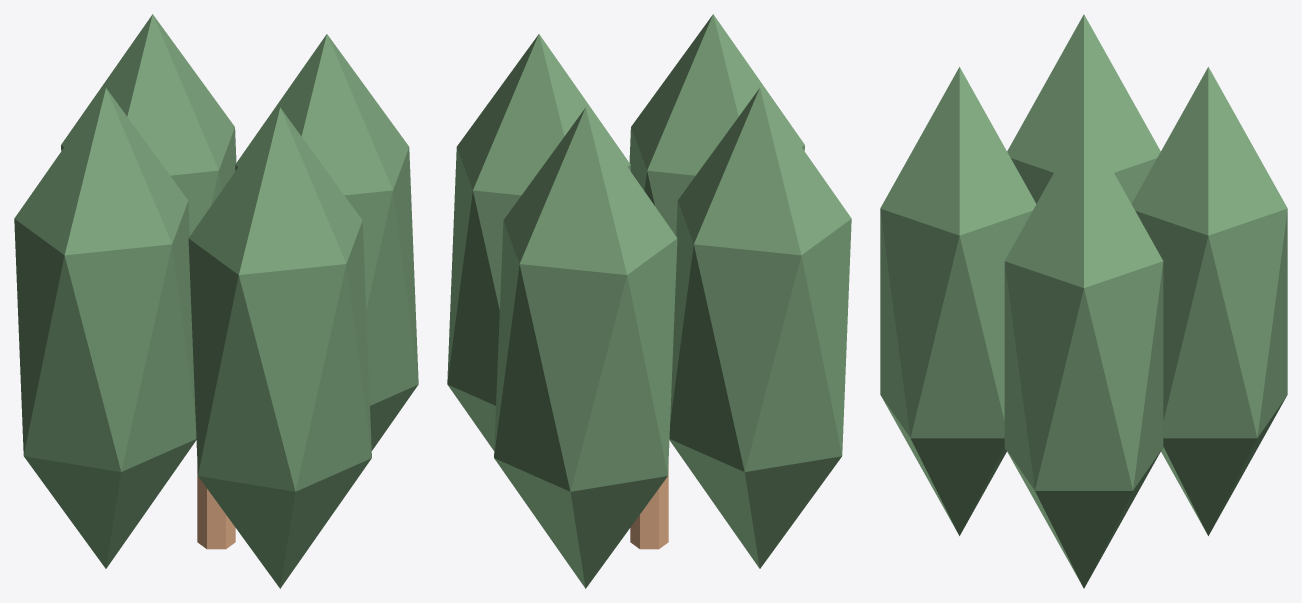
The picture shows the model from 3 angles, left to right: view 1: azimuth 30°, elevation 25°; view 2: azimuth 150°, elevation 25°; view 3: azimuth 270°, elevation 25°; orthographic projection. The views are drawn at different scales.
Parts seen in each view (by area): view 1: Leaf.003, Leaf.002, Leaf, Leaf.001, Stem; view 2: Leaf.001, Leaf.002, Leaf, Leaf.003, Stem; view 3: Leaf, Leaf.001, Leaf.003, Leaf.002.
Part boxes in pixels (x1,y1,x2,y2): Leaf.003: (188, 107, 371, 588); Leaf.002: (14, 88, 196, 568); Leaf: (235, 34, 418, 450); Leaf.001: (61, 14, 236, 235); Stem: (197, 465, 235, 549); Leaf.001: (494, 107, 677, 588); Leaf.002: (669, 88, 851, 568); Leaf: (447, 34, 630, 450); Leaf.003: (629, 14, 804, 235); Stem: (630, 465, 668, 549); Leaf: (1004, 119, 1163, 588); Leaf.001: (1131, 67, 1287, 535); Leaf.003: (880, 67, 1036, 535); Leaf.002: (1007, 14, 1160, 203).
Size of the model in its own units: 0.4189 by 0.5 by 0.3931.
1 material, 1 textured.
